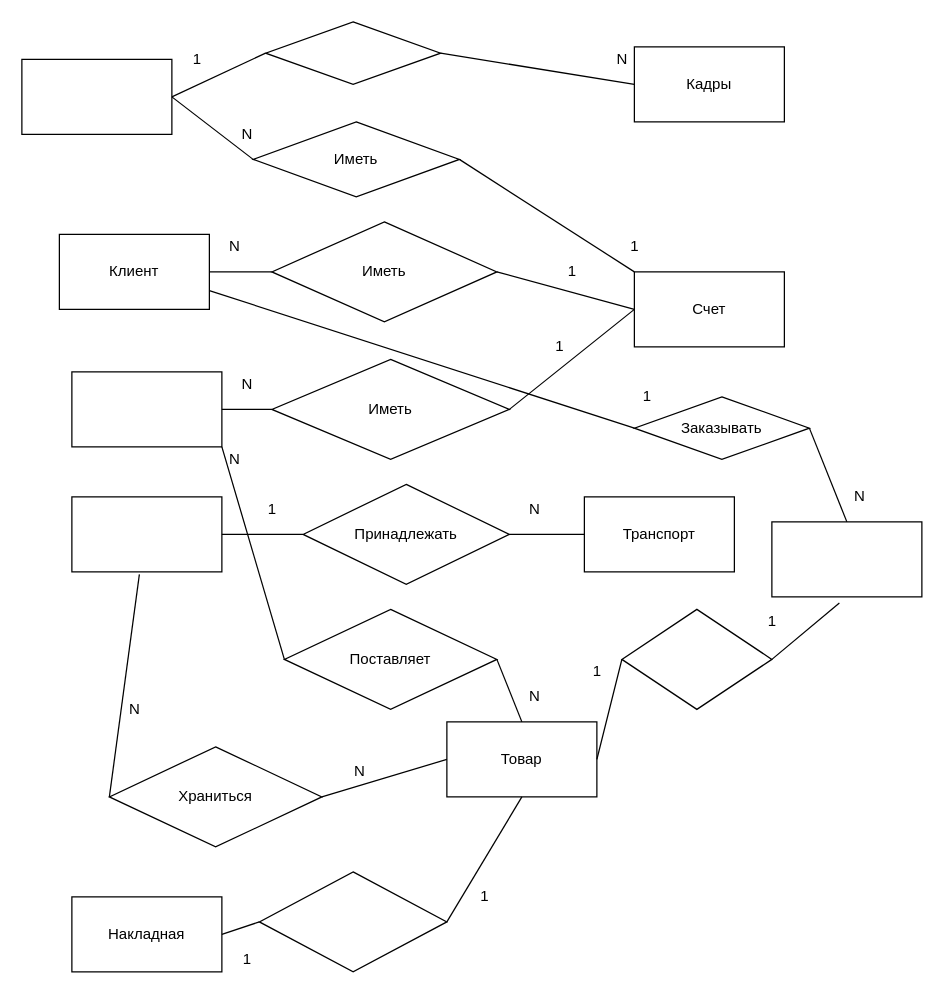
Image size: 944x994. Some labels were removed from this diagram. The shapes that lost their labels are listed below. From the top down, each one's box as (x1, y1, x2, y2) in pixels, then its label:
(264, 21, 441, 84): Работать
(21, 58, 172, 134): Фирма
(71, 371, 222, 447): Поставщик
(71, 496, 222, 572): Склад
(771, 521, 922, 597): Заказ
(621, 608, 772, 709): Включаться
(258, 871, 447, 972): Учитываться
